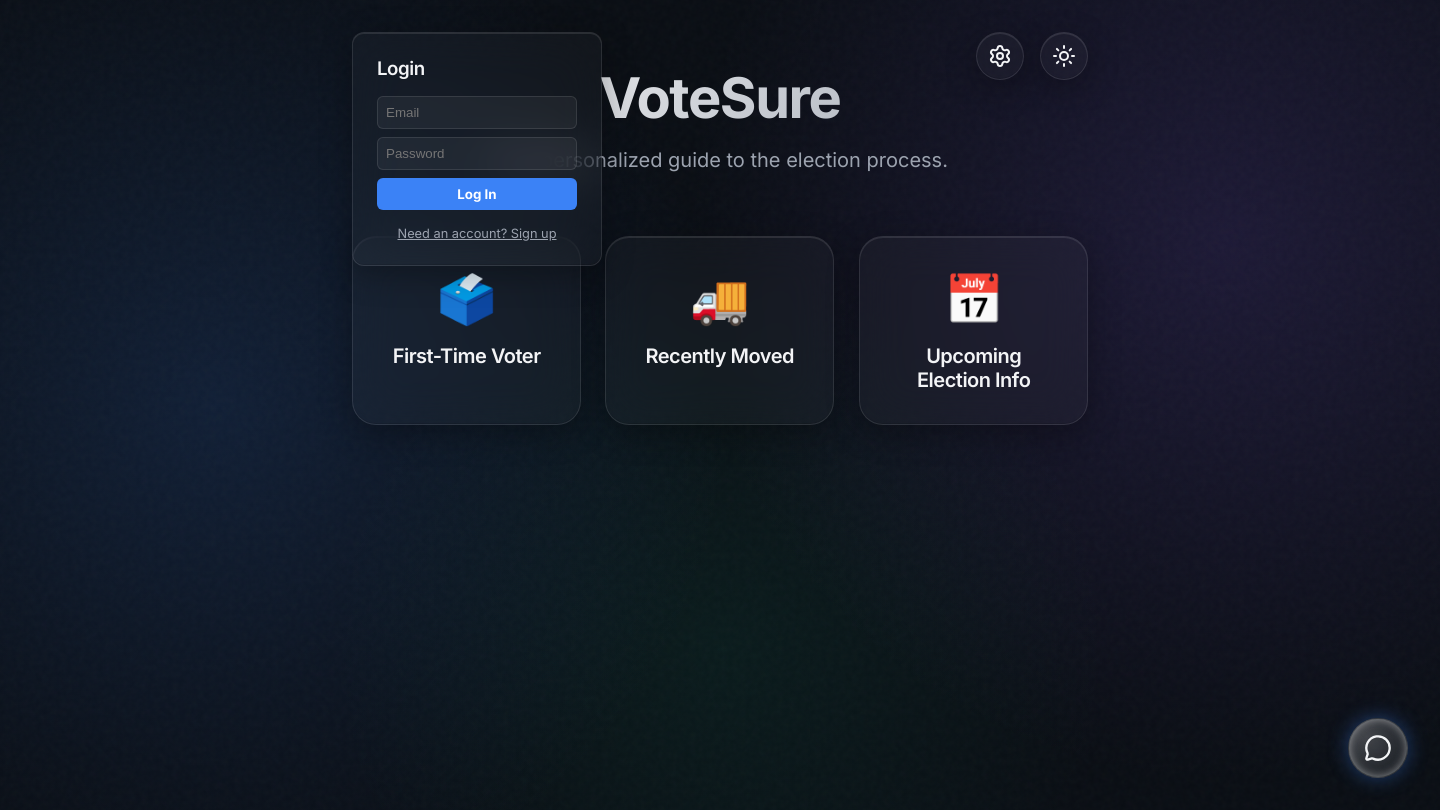
Test: App › can switch to real-time info scenario
The image size is (1440, 810).
Click the button named "Select Upcoming Election Info scenario": (973,330) [859, 236, 1088, 425]
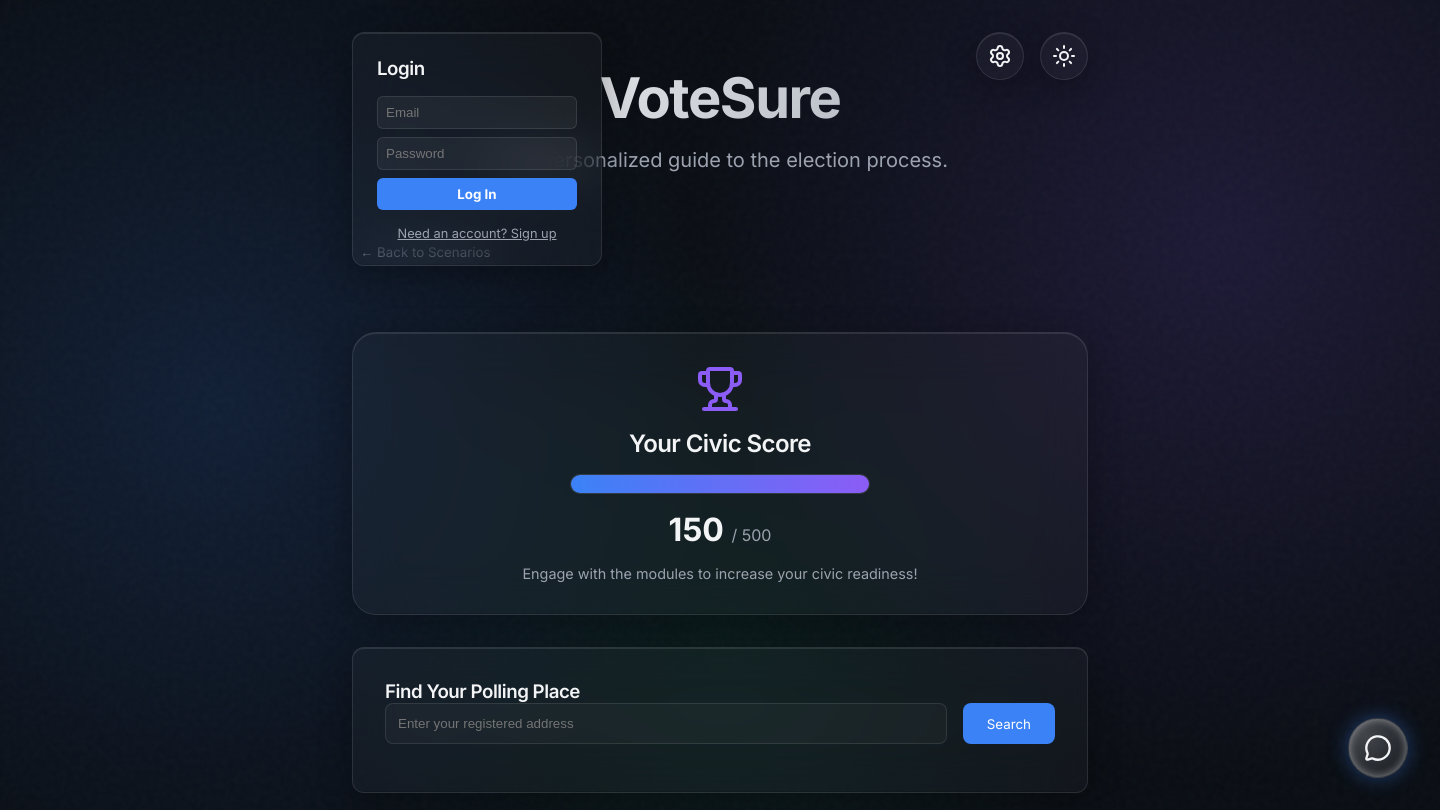
Now the heading "Your Civic Score" is shown, box [629, 429, 811, 458]
